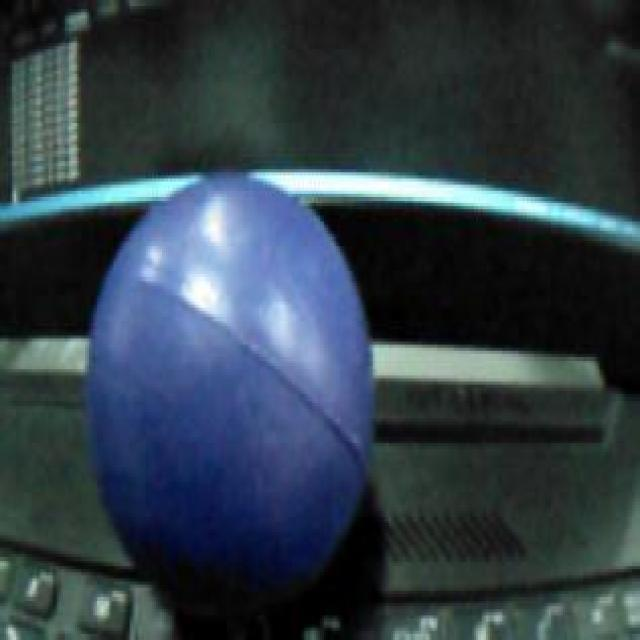BallPurple: (84, 174, 372, 592)
